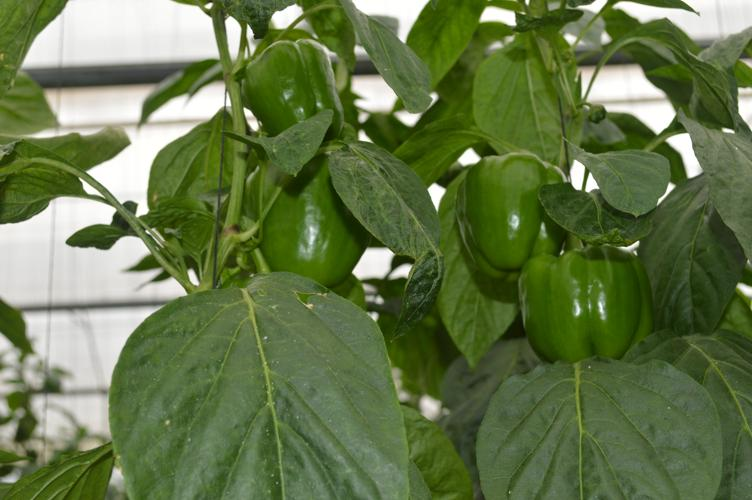BellPepper: (511, 241, 652, 369), (241, 156, 369, 293), (449, 144, 565, 273), (232, 37, 346, 141)
